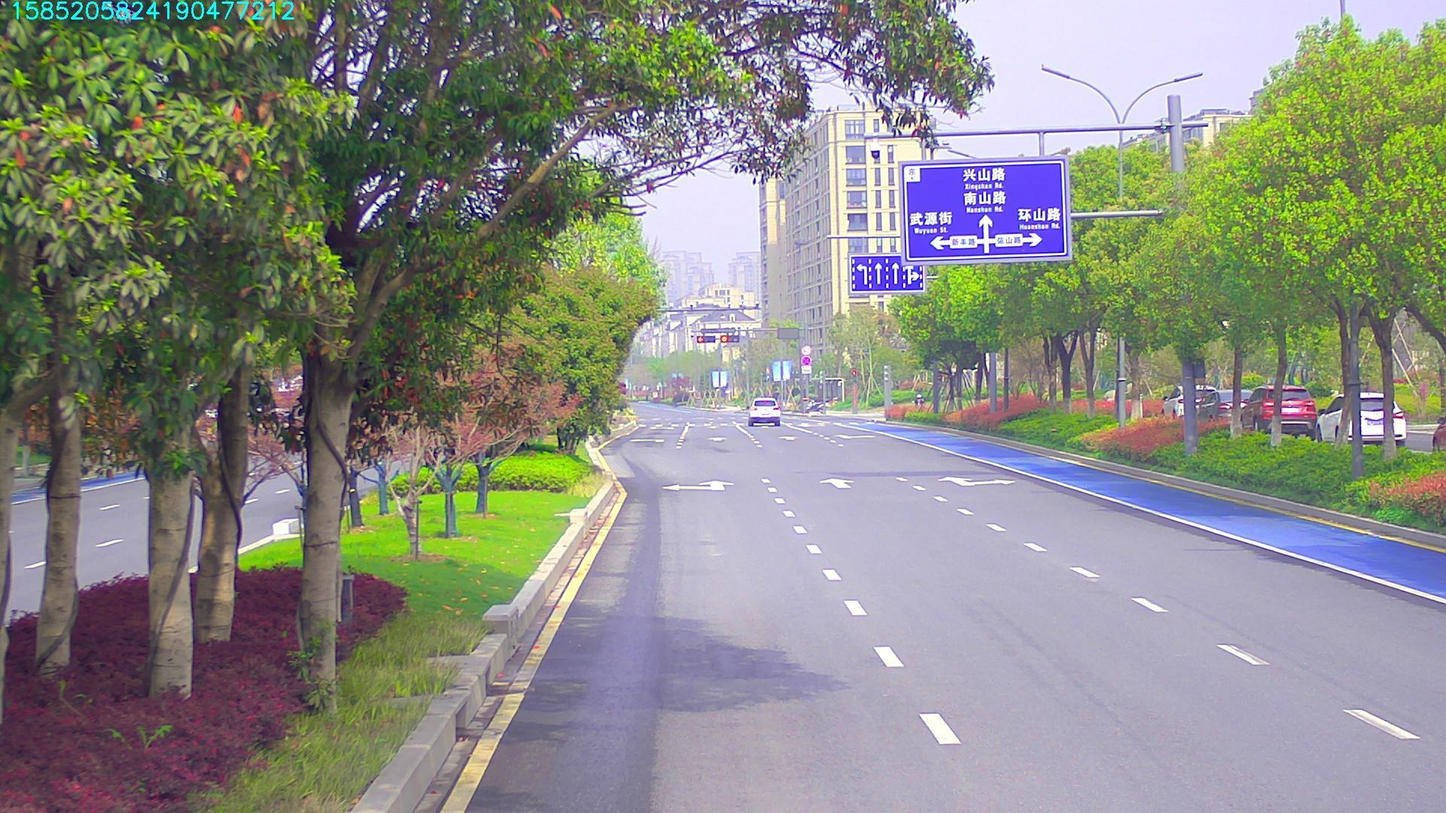red: (688, 333, 715, 344), (724, 333, 745, 344)
